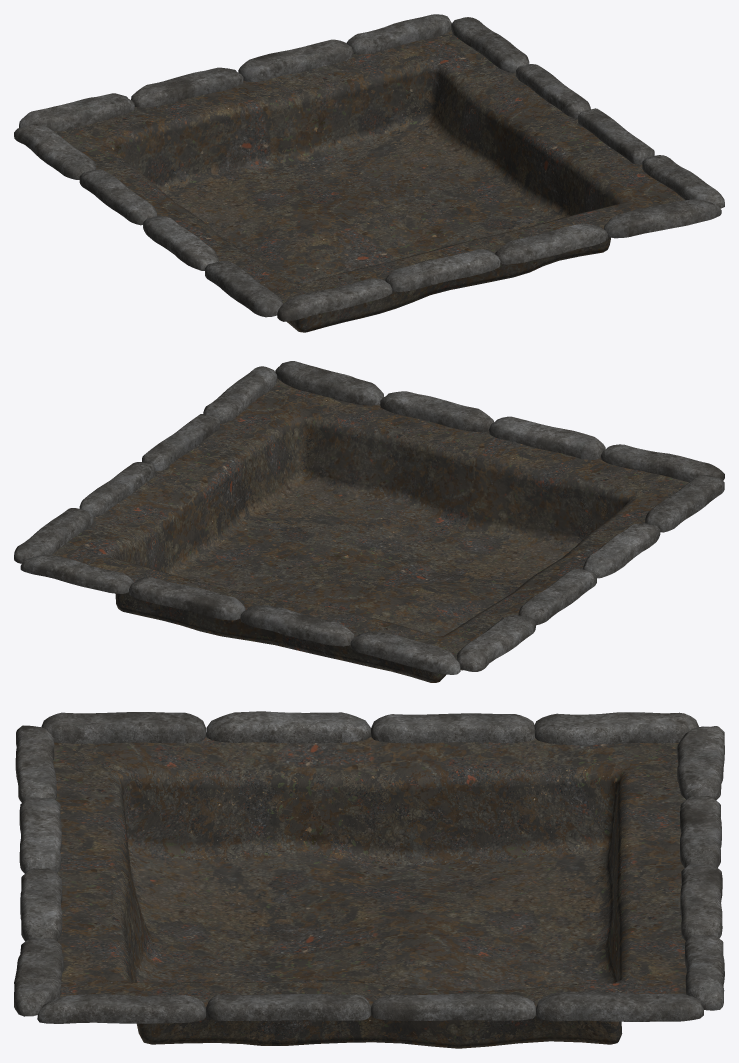
Rendered from Basement_Corridor_B_Floor_Hole_4x4m.glb.
3 renders of one model, top to bottom at view 1: azimuth 30°, elevation 25°; view 2: azimuth 150°, elevation 25°; view 3: azimuth 270°, elevation 25°, orthographic. The views are drawn at different scales.
Parts seen in each view (by area): view 1: Basement_Corridor_B_Floor_Hole_4x4m; view 2: Basement_Corridor_B_Floor_Hole_4x4m; view 3: Basement_Corridor_B_Floor_Hole_4x4m.
Part boxes in pixels (box(x1,y1,x2,y2)): Basement_Corridor_B_Floor_Hole_4x4m: box(14, 14, 724, 332); Basement_Corridor_B_Floor_Hole_4x4m: box(14, 361, 724, 682); Basement_Corridor_B_Floor_Hole_4x4m: box(14, 711, 724, 1048).
Bounding box in the file's own units: 4.29 × 0.7103 × 4.31.
Materials: 2 (2 with a texture image).
